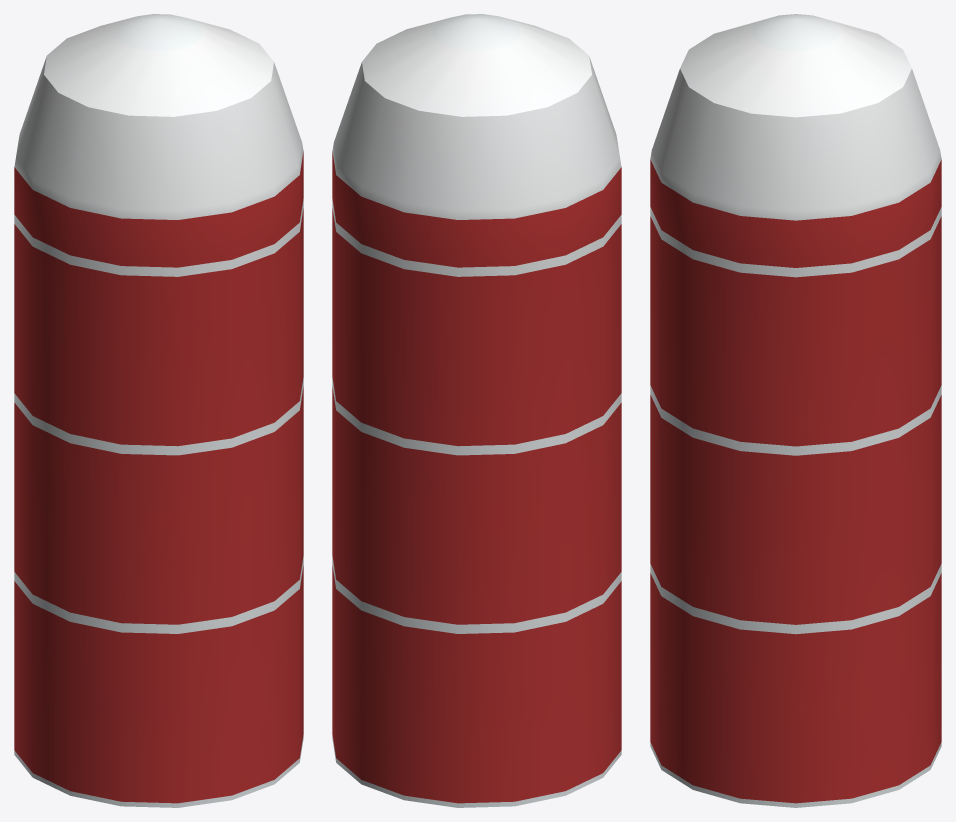
File: Зернохранилище.fbx
The picture shows the model from 3 angles, left to right: view 1: azimuth 30°, elevation 25°; view 2: azimuth 150°, elevation 25°; view 3: azimuth 270°, elevation 25°; orthographic projection.
Parts seen in each view (by area): view 1: Зернохранилище; view 2: Зернохранилище; view 3: Зернохранилище.
Boxes of the visible parts, left/top/right/bottom form: Зернохранилище: left=14, top=14, right=303, bottom=807; Зернохранилище: left=332, top=14, right=621, bottom=807; Зернохранилище: left=650, top=14, right=941, bottom=807.
Bounding box in the file's own units: 88.79 × 244 × 88.79.
